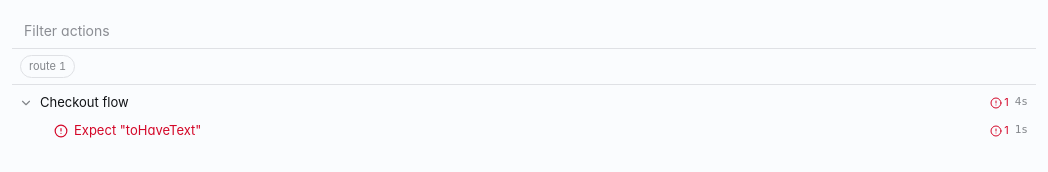
Test: ActionList — manual toggles survive group-chip changes › a manual collapse of a default-expanded error group survives a chip toggle
Check: the text "Expect \"toHaveText\"" is shown, box [74, 121, 201, 140]
Click the button named "Collapse" at (26, 102), box [18, 94, 34, 110]
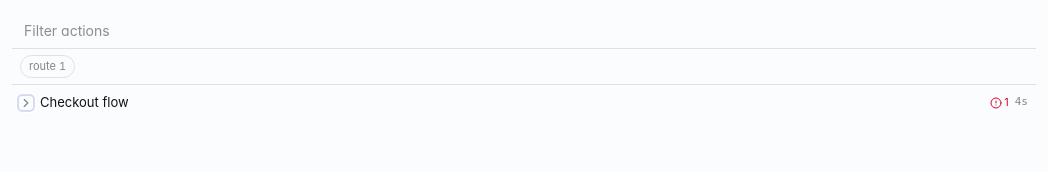
Check: the option "Expect \"toHaveText\"" is gone
Click the button "route 1" at (48, 66), box [20, 55, 75, 78]
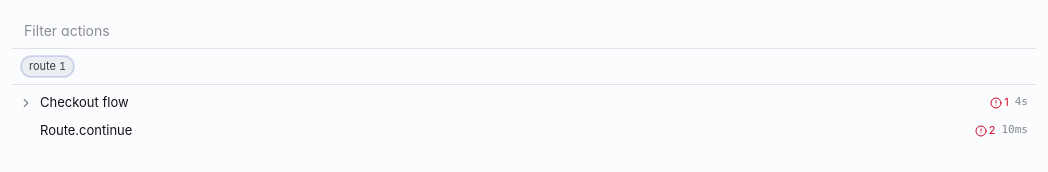
Check: the option "Expect \"toHaveText\"" is not shown
Check: the text "Route.continue" is shown, box [40, 121, 132, 140]
